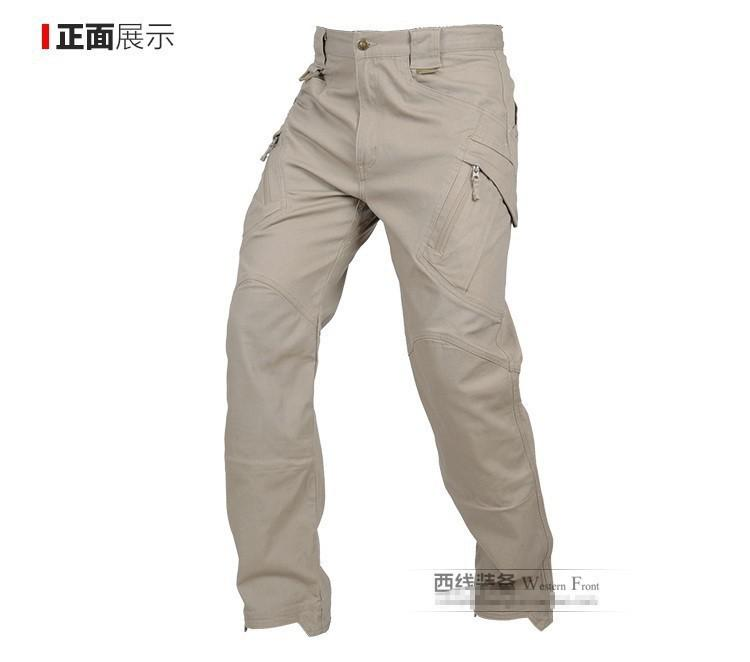pants: (218, 24, 554, 630)
